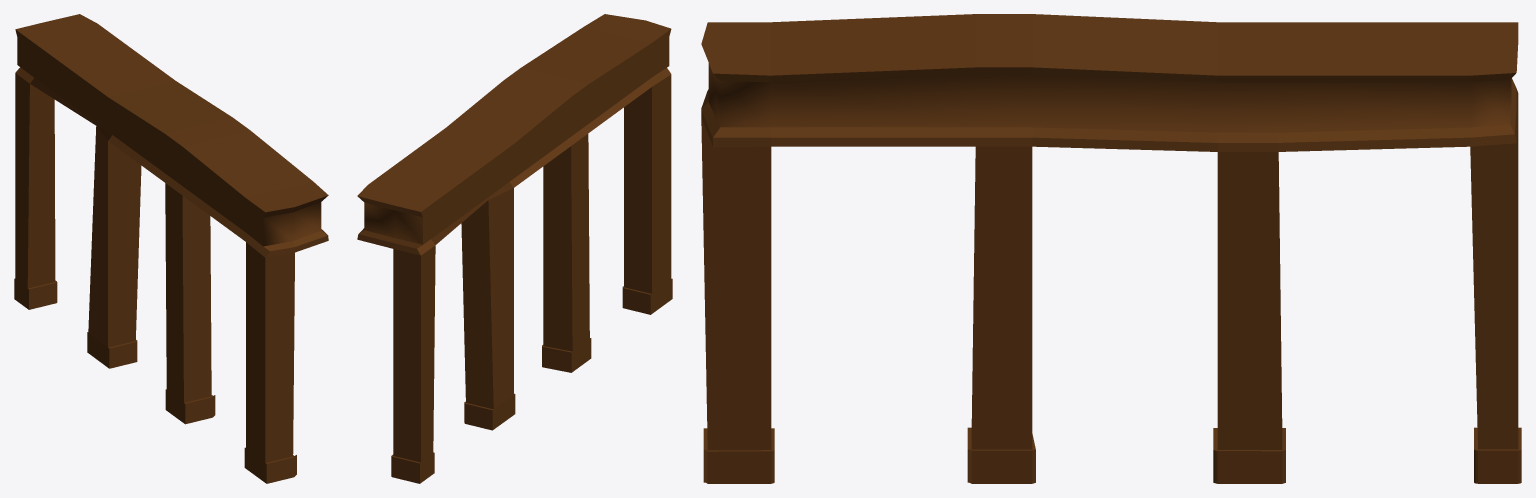
Rendered from Baker.fbx.
3 renders of one model, left to right at view 1: azimuth 30°, elevation 25°; view 2: azimuth 150°, elevation 25°; view 3: azimuth 270°, elevation 25°, orthographic. The views are drawn at different scales.
Parts seen in each view (by area): view 1: Cube.016; view 2: Cube.016; view 3: Cube.016.
Part boxes in pixels (bbox=[...]): Cube.016: bbox=[14, 14, 328, 483]; Cube.016: bbox=[357, 14, 672, 483]; Cube.016: bbox=[701, 14, 1521, 483].
Size of the model in its own units: 98.41 by 581 by 349.
